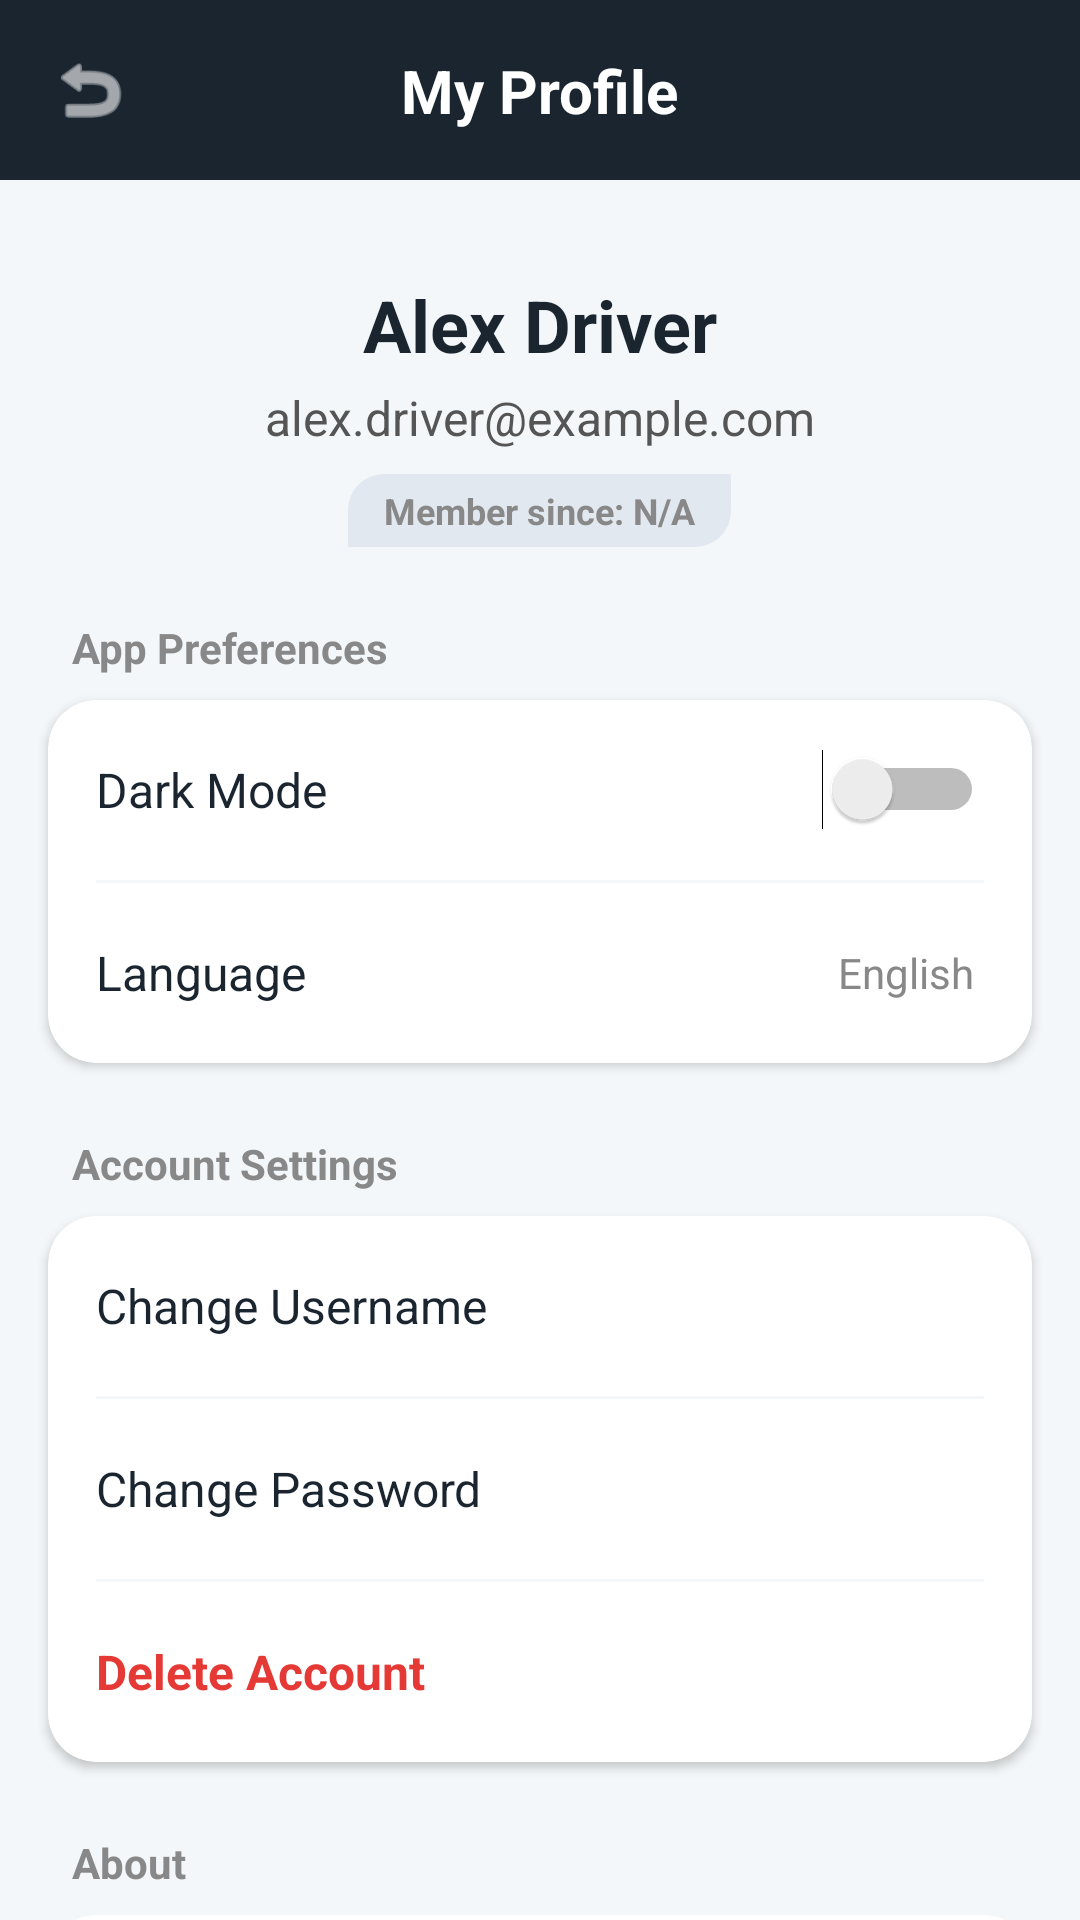

Locate icon controls on the screen. Image size 1080 × 1920, boxes as (x1, y1, x2, y2).
revert: (61, 63, 121, 118)
